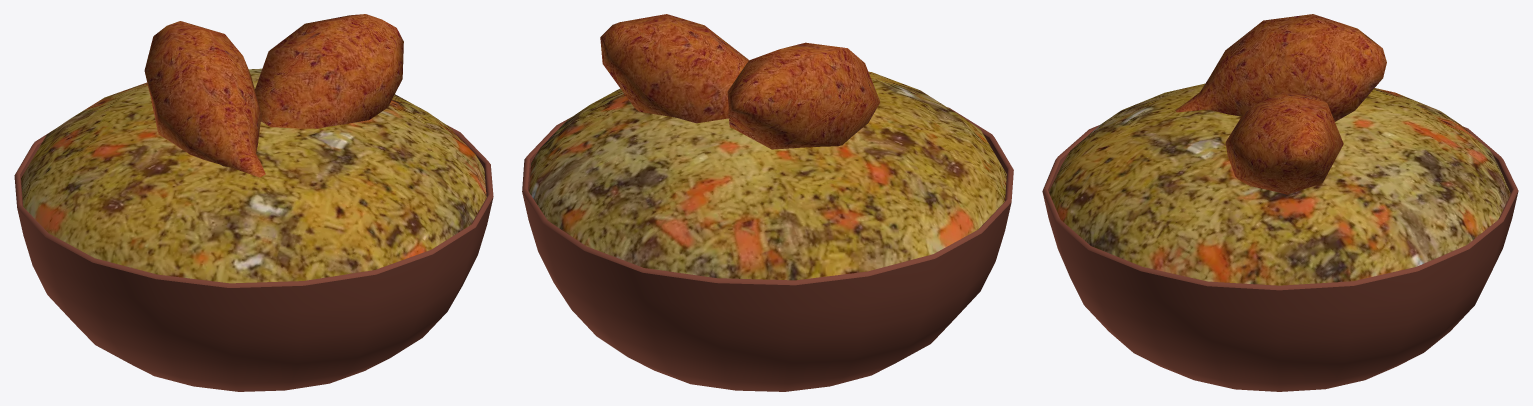
Rendered from biryaniPlate-transformed.glb.
The picture shows the model from 3 angles, left to right: view 1: azimuth 30°, elevation 25°; view 2: azimuth 150°, elevation 25°; view 3: azimuth 270°, elevation 25°; orthographic projection. The views are drawn at different scales.
Visible parts, largest first — view 1: bowl; view 2: bowl; view 3: bowl.
Part boxes in pixels (x1,y1,x2,y2): bowl: (14, 14, 493, 391); bowl: (522, 14, 1013, 391); bowl: (1042, 14, 1518, 391).
Size of the model in its own units: 0.0571 by 0.0419 by 0.0577.
Materials: 1 (1 with a texture image).
